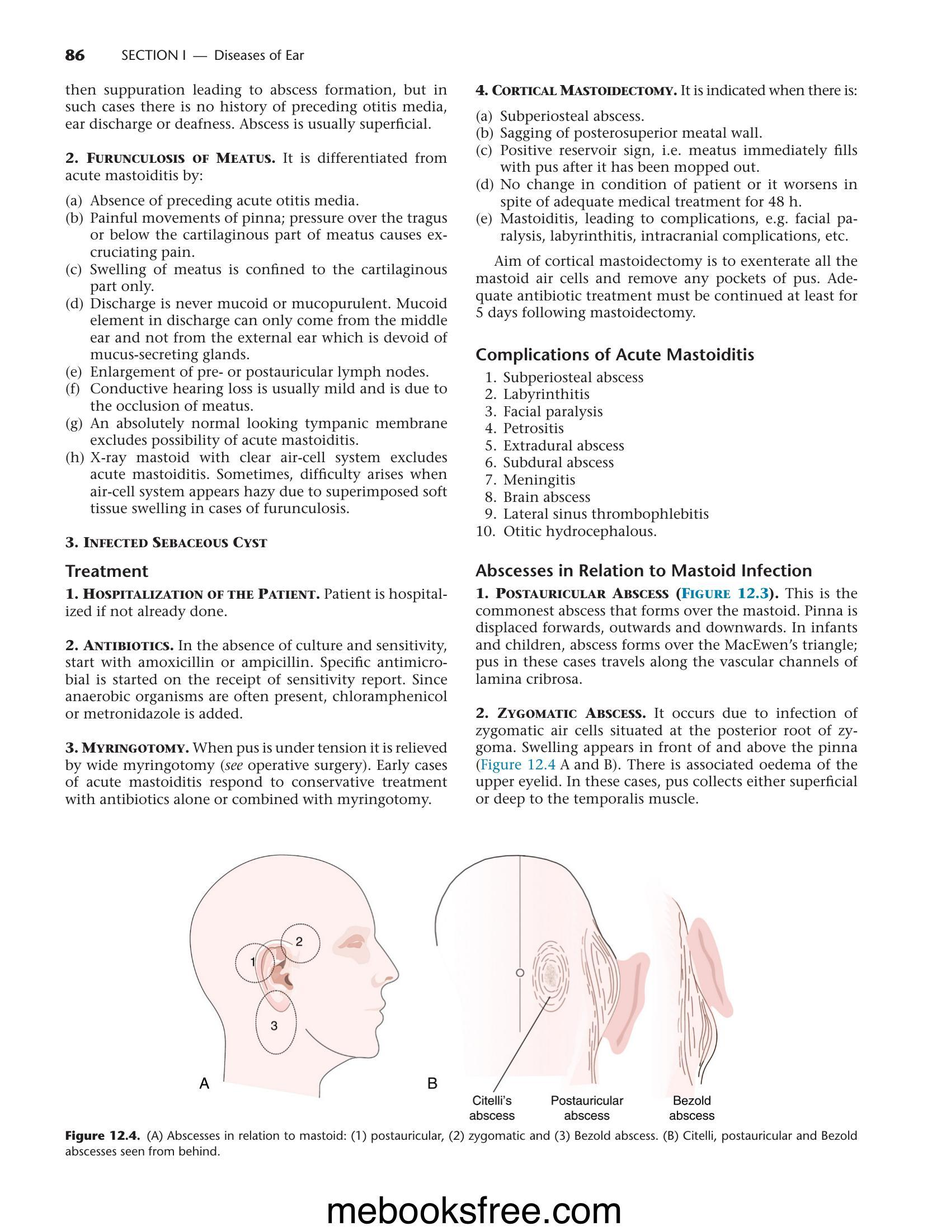caption: (65, 1129, 858, 1157), (426, 1076, 439, 1090), (198, 1075, 210, 1090)
header: (121, 49, 305, 61)
image: (416, 836, 760, 1127), (165, 836, 411, 1119)
list: (65, 193, 449, 518), (474, 586, 860, 809), (64, 587, 448, 809), (475, 109, 858, 246), (476, 370, 710, 541)
sub-section-heading: (475, 346, 755, 366), (474, 562, 813, 578), (64, 534, 269, 549), (64, 563, 150, 578)
text: (475, 253, 859, 323), (65, 83, 448, 134), (64, 150, 448, 186), (474, 83, 859, 98)
